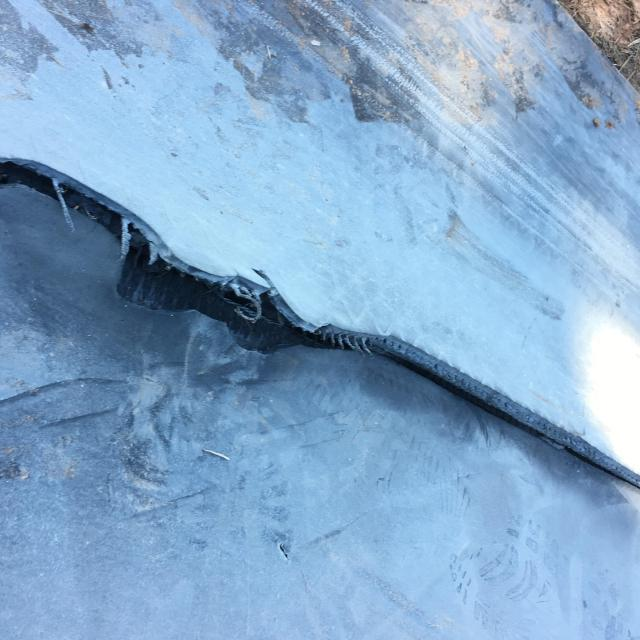Tear: (0, 150, 640, 500)
